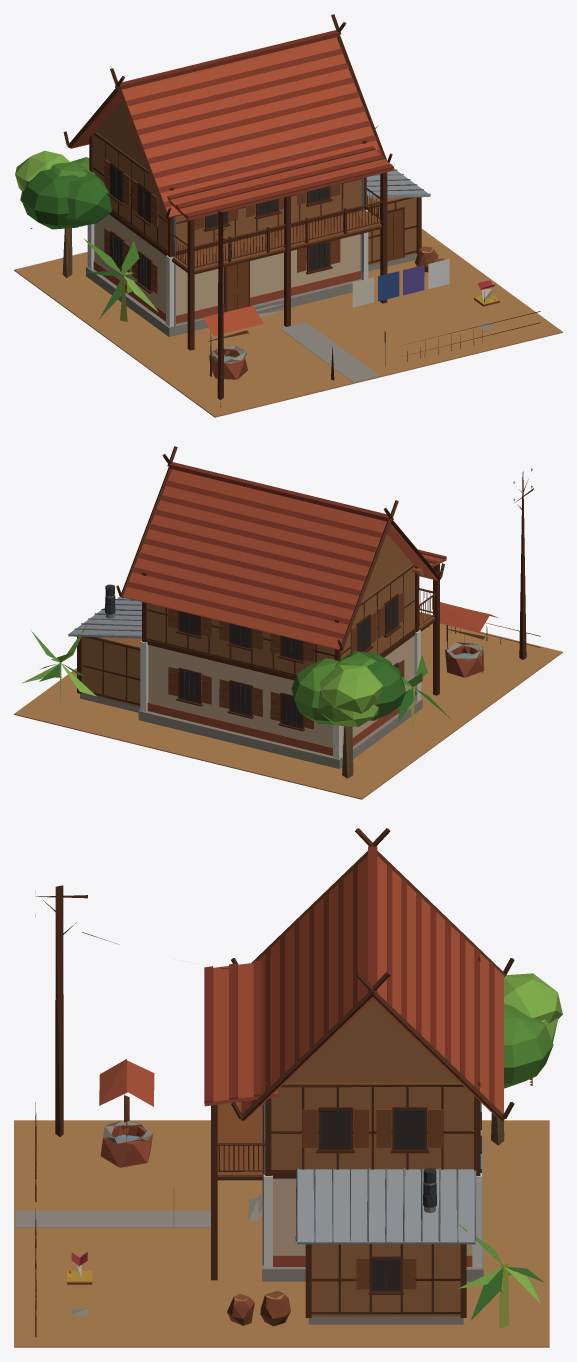
File: home_3.glb
3 renders of one model, top to bottom at view 1: azimuth 30°, elevation 25°; view 2: azimuth 150°, elevation 25°; view 3: azimuth 270°, elevation 25°, orthographic. The views are drawn at different scales.
Parts seen in each view (by area): view 1: body, windows; view 2: body, windows; view 3: body, windows.
Part boxes in pixels (bbox=[...]): body: bbox=[14, 14, 562, 417]; windows: bbox=[110, 164, 328, 288]; body: bbox=[14, 446, 562, 799]; windows: bbox=[179, 596, 397, 727]; body: bbox=[14, 828, 562, 1347]; windows: bbox=[320, 1110, 424, 1289].
Size of the model in its own units: 16.66 by 10.43 by 16.3.
